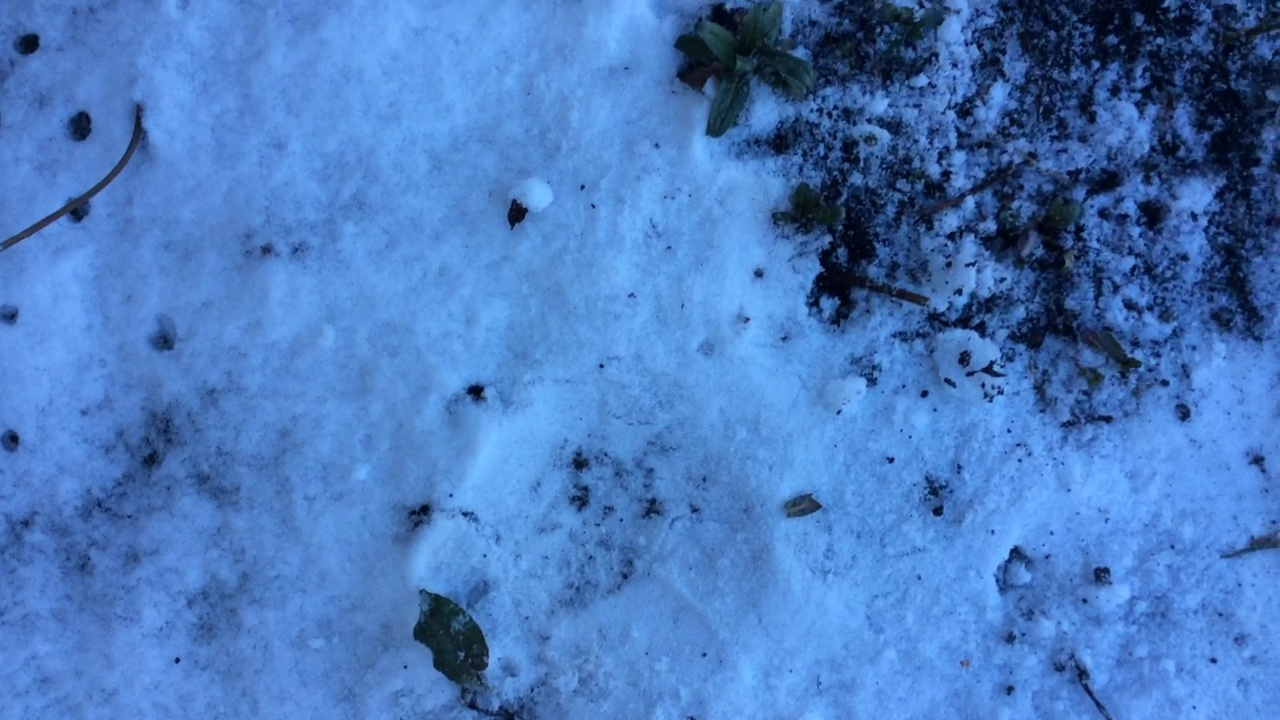root: (458, 686, 495, 720)
rumex: (408, 581, 499, 712)
